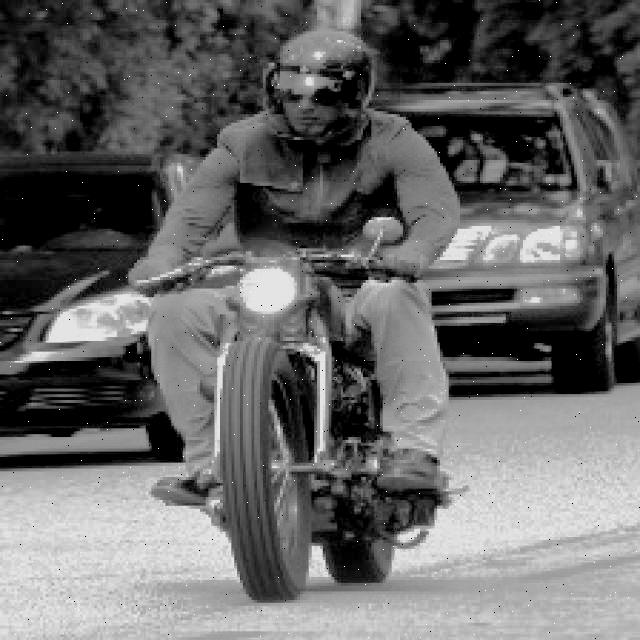Bike: (189, 247, 438, 606)
